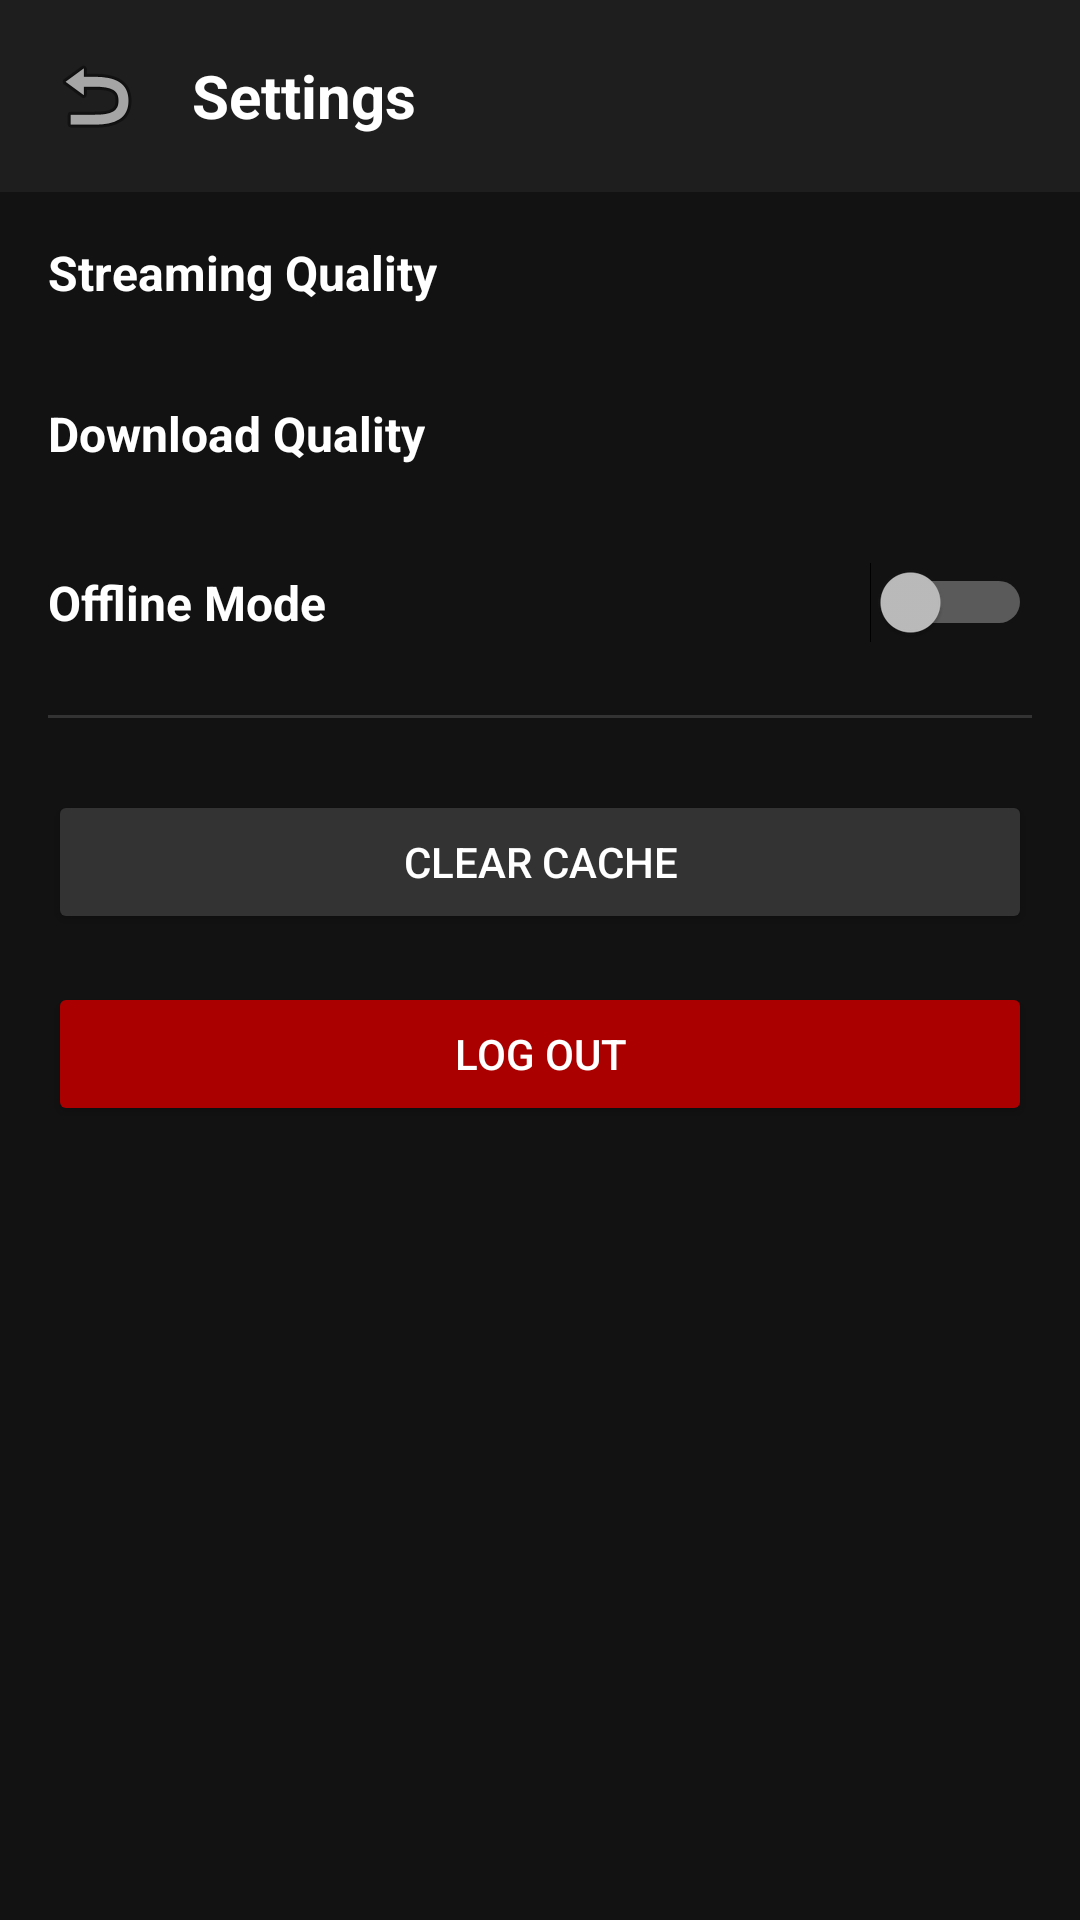

Point at icon controls on the screen. Image size 1080px x 1920px, points as [x,y].
Back: [97,96]
